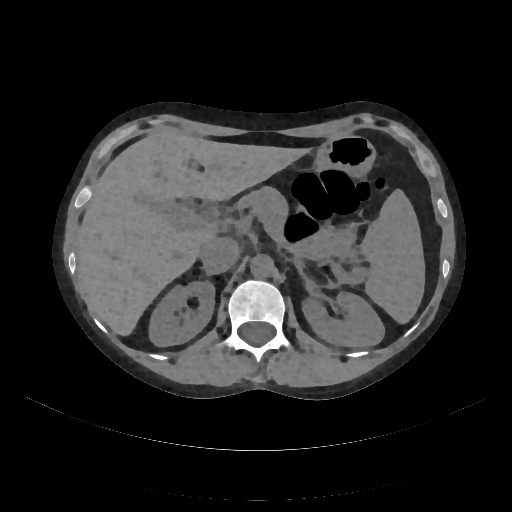Lesion: (182, 294, 204, 314)
